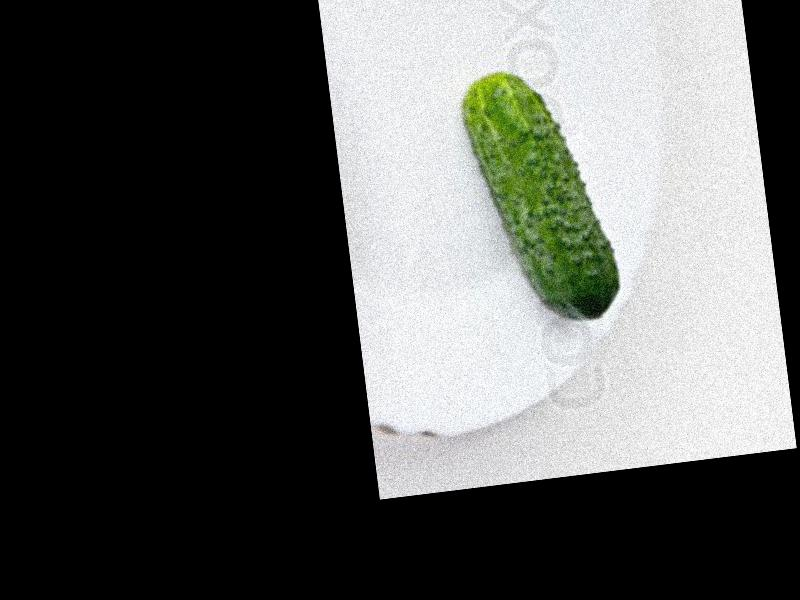Cucumber: (458, 62, 623, 329)
